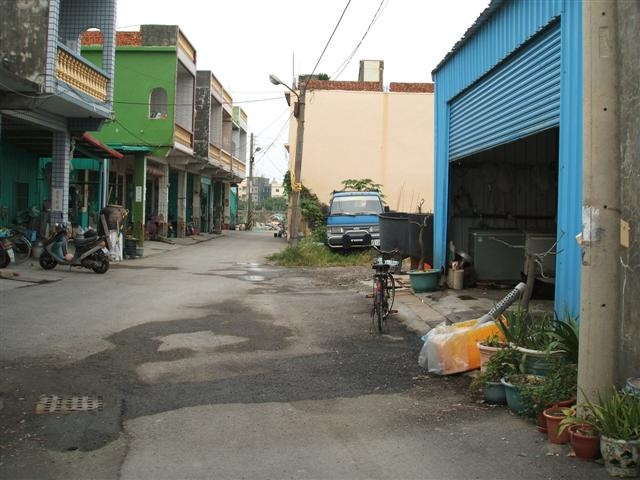box: (425, 313, 508, 376)
bucket: (378, 210, 409, 257)
